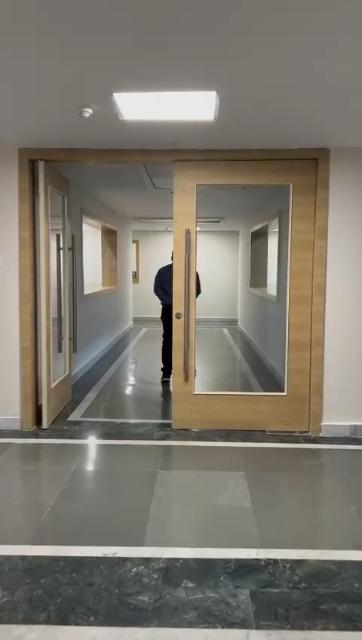door: (172, 167, 320, 431)
floor: (0, 442, 362, 640)
moving-obj: (152, 222, 220, 388)
wall: (324, 134, 361, 426), (0, 141, 26, 423)
